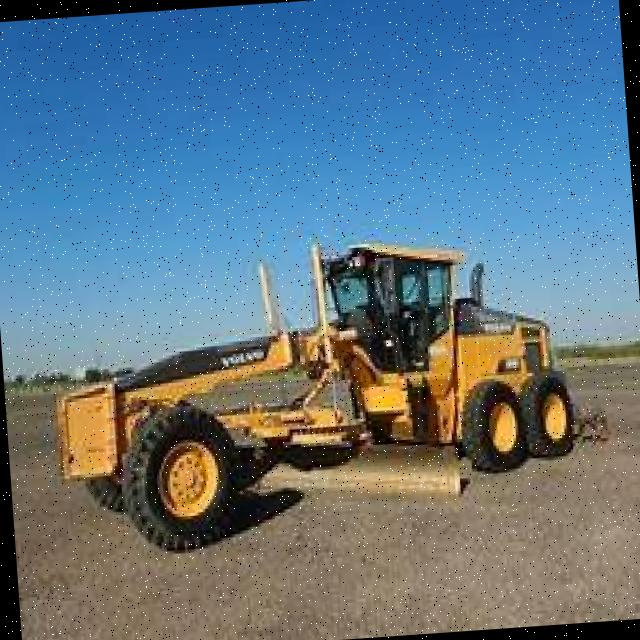Grader: (31, 217, 630, 568)
